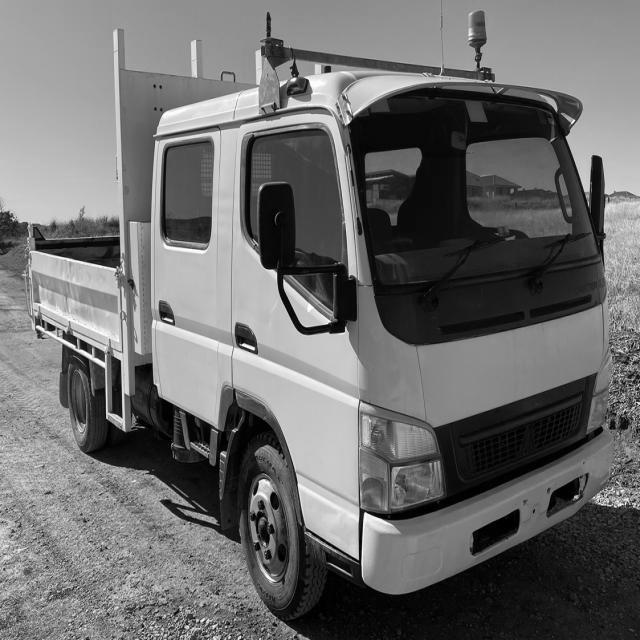truck: (127, 9, 640, 612)
